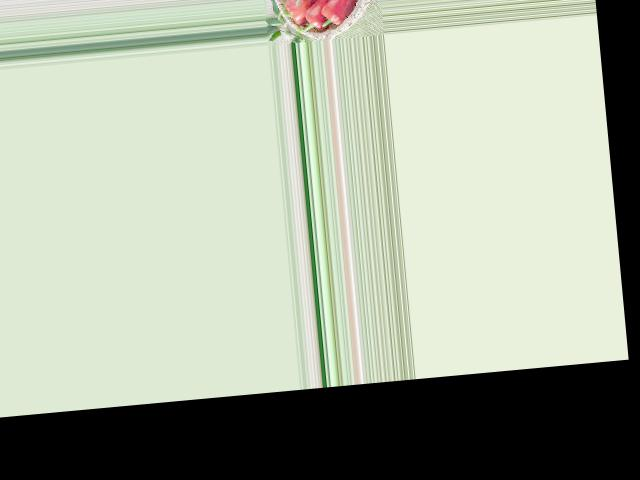bell_pepper: (300, 2, 327, 34)
